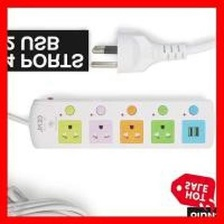three_eye_plug: (23, 94, 216, 151)
